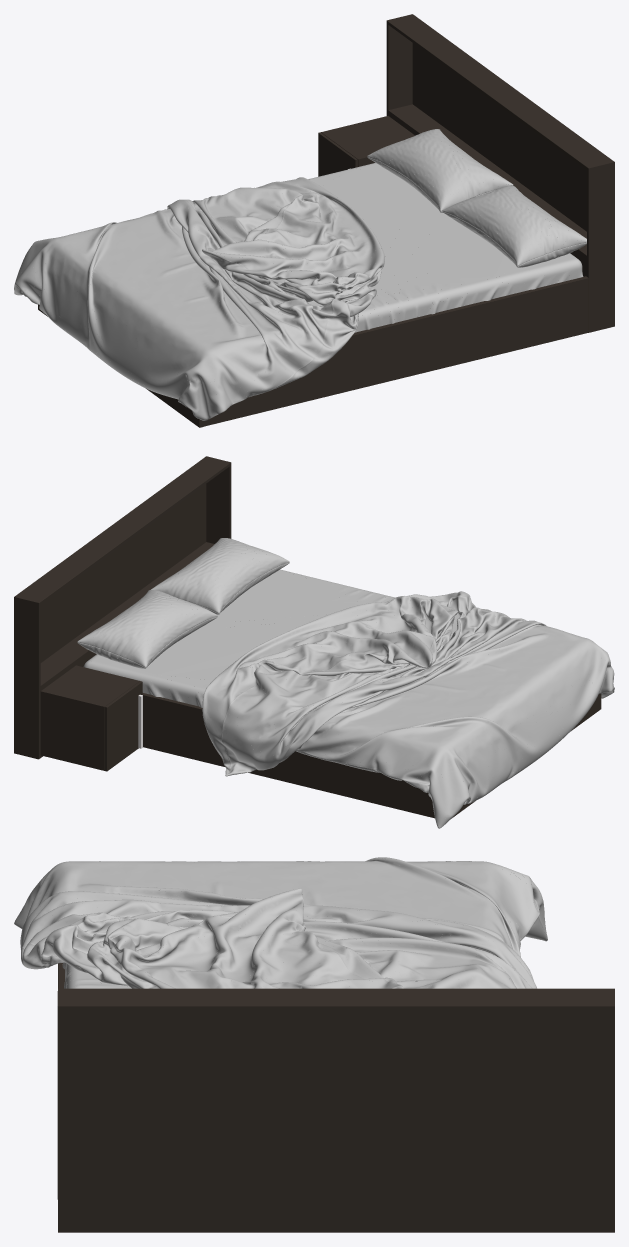
The model's file is bedAgape.glb.
The picture shows the model from 3 angles, top to bottom: view 1: azimuth 30°, elevation 25°; view 2: azimuth 150°, elevation 25°; view 3: azimuth 270°, elevation 25°; orthographic projection. The views are drawn at different scales.
Parts seen in each view (by area): view 1: Object_7, Object_4, Object_3, Object_5, Object_6; view 2: Object_7, Object_3, Object_4, Object_5, Object_6; view 3: Object_7, Object_3, Object_4, Object_5, Object_6.
Boxes of the visible parts, left/top/right/bottom form: Object_7: left=38, top=14, right=614, bottom=427; Object_4: left=14, top=129, right=583, bottom=420; Object_3: left=14, top=131, right=586, bottom=420; Object_5: left=14, top=130, right=586, bottom=414; Object_6: left=14, top=130, right=586, bottom=414; Object_7: left=14, top=456, right=601, bottom=818; Object_3: left=77, top=538, right=614, bottom=828; Object_4: left=78, top=539, right=614, bottom=814; Object_5: left=77, top=538, right=613, bottom=825; Object_6: left=78, top=538, right=613, bottom=828; Object_7: left=57, top=963, right=614, bottom=1232; Object_3: left=14, top=857, right=547, bottom=988; Object_4: left=21, top=857, right=531, bottom=988; Object_5: left=19, top=858, right=547, bottom=988; Object_6: left=15, top=861, right=547, bottom=988.
Bounding box in the file's own units: 250 × 89.85 × 216.
3 materials, 1 textured.
